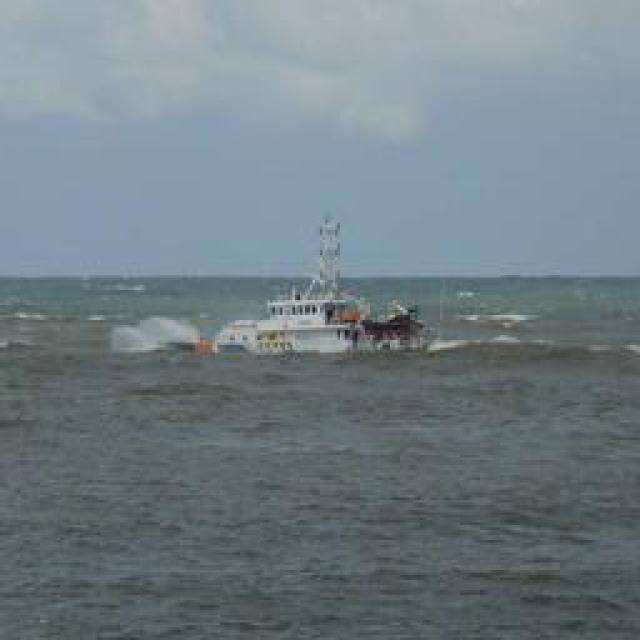Ship: (210, 219, 430, 359)
